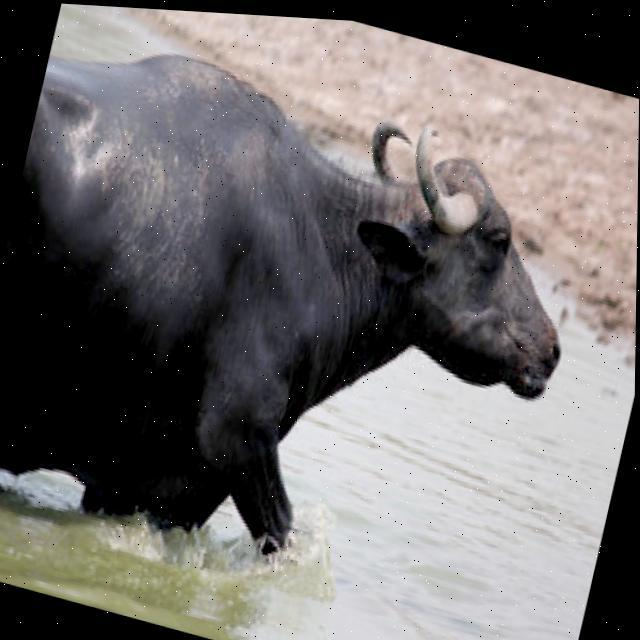Buffalo: (0, 6, 609, 640)
